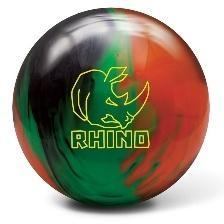Sports-Ball: (14, 9, 208, 211)
